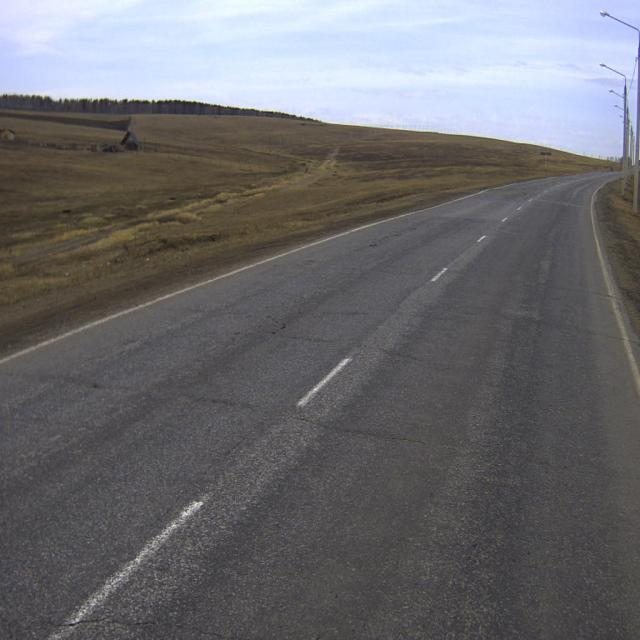road: (0, 171, 640, 639)
